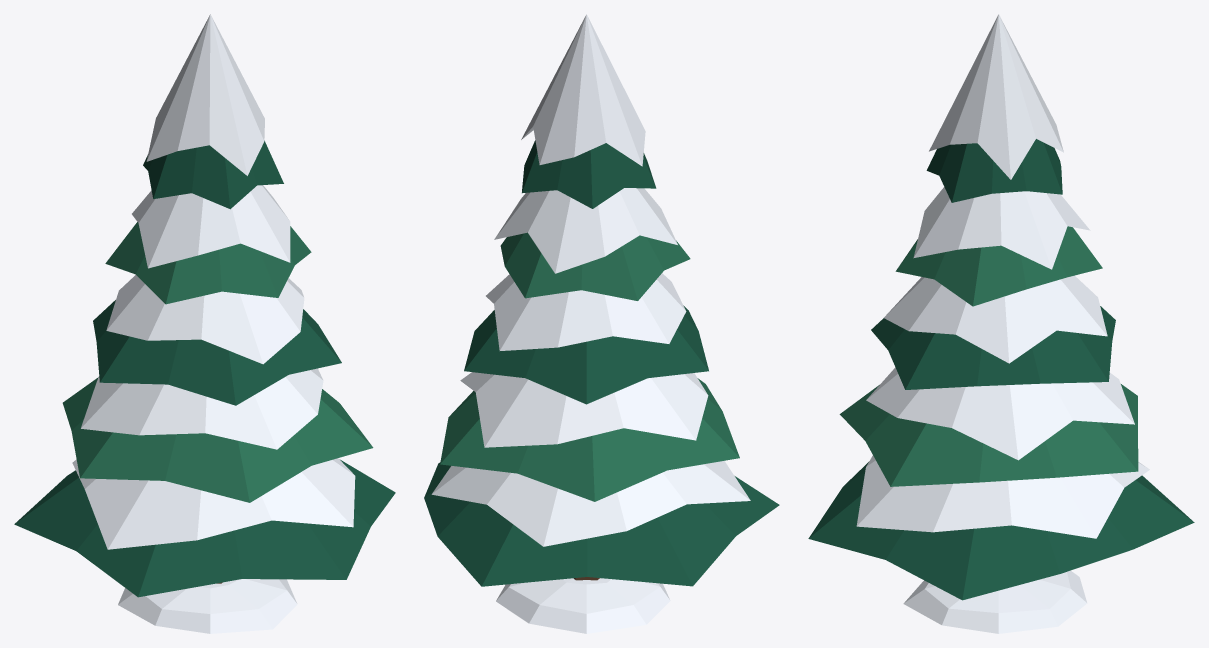
Rendered from snowy_pine.glb.
The picture shows the model from 3 angles, left to right: view 1: azimuth 30°, elevation 25°; view 2: azimuth 150°, elevation 25°; view 3: azimuth 270°, elevation 25°; orthographic projection.
Parts seen in each view (by area): view 1: snowy_pine; view 2: snowy_pine; view 3: snowy_pine.
Part boxes in pixels (bbox=[...]): snowy_pine: bbox=[14, 14, 395, 633]; snowy_pine: bbox=[424, 14, 779, 633]; snowy_pine: bbox=[808, 14, 1194, 633].
Bounding box in the file's own units: 3 × 5.25 × 3.15.
